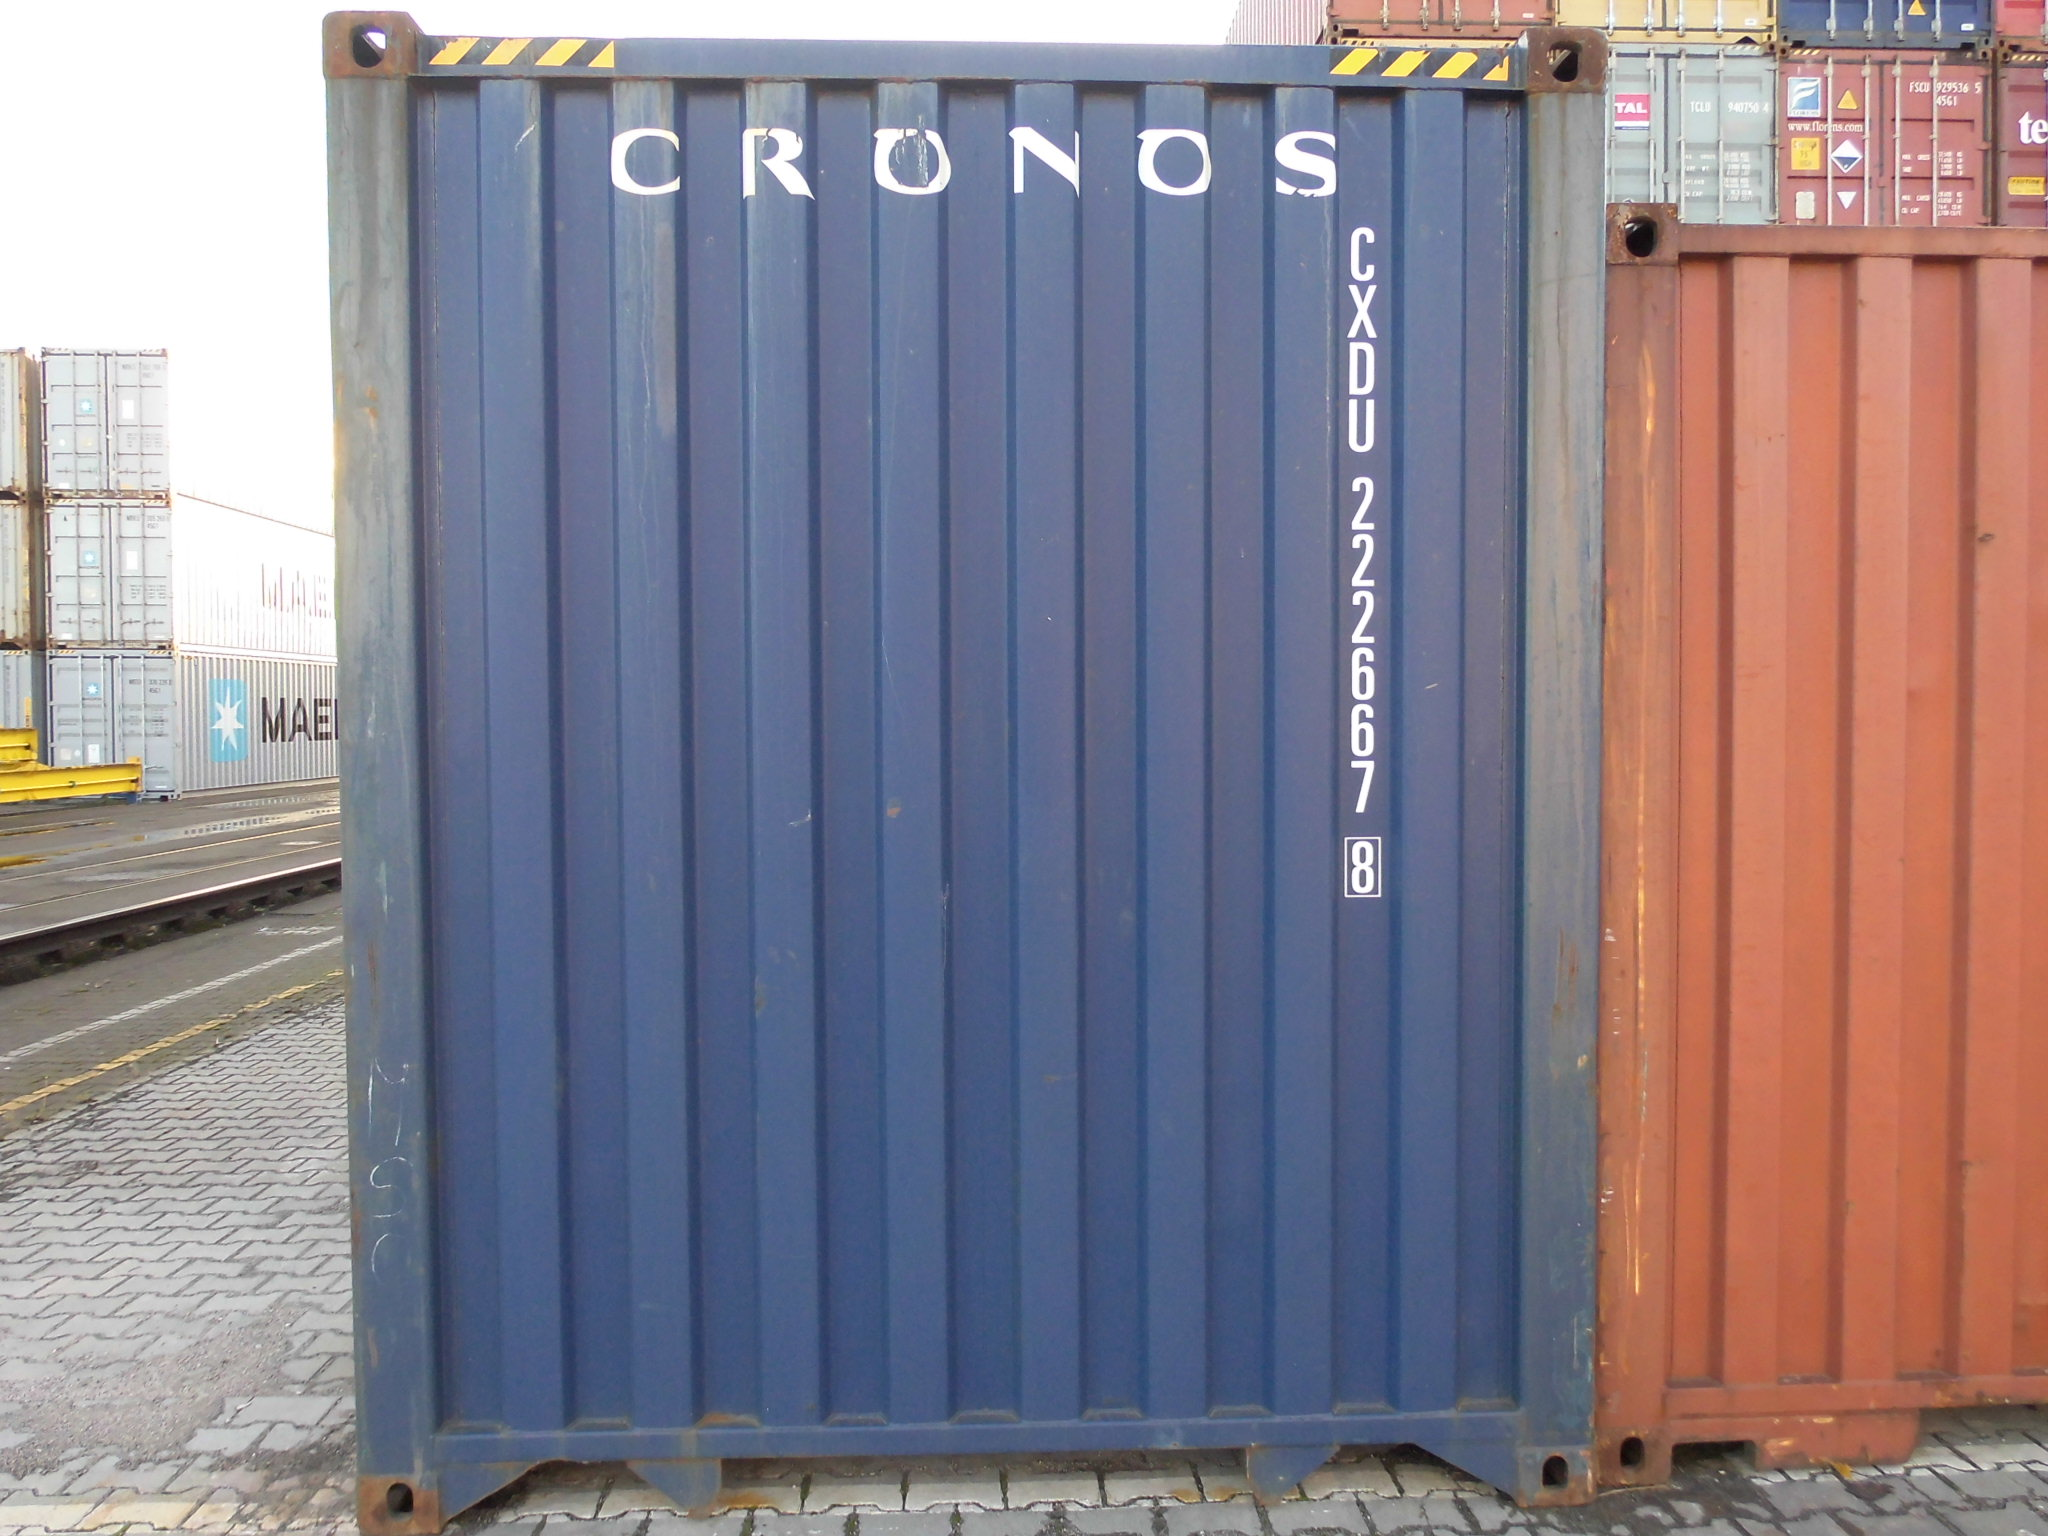container_no_door: (319, 5, 1601, 1518)
